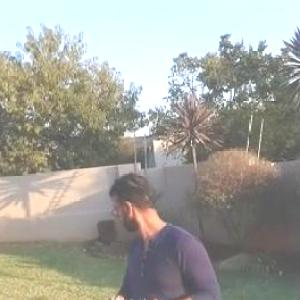follow: (97, 165, 225, 299)
